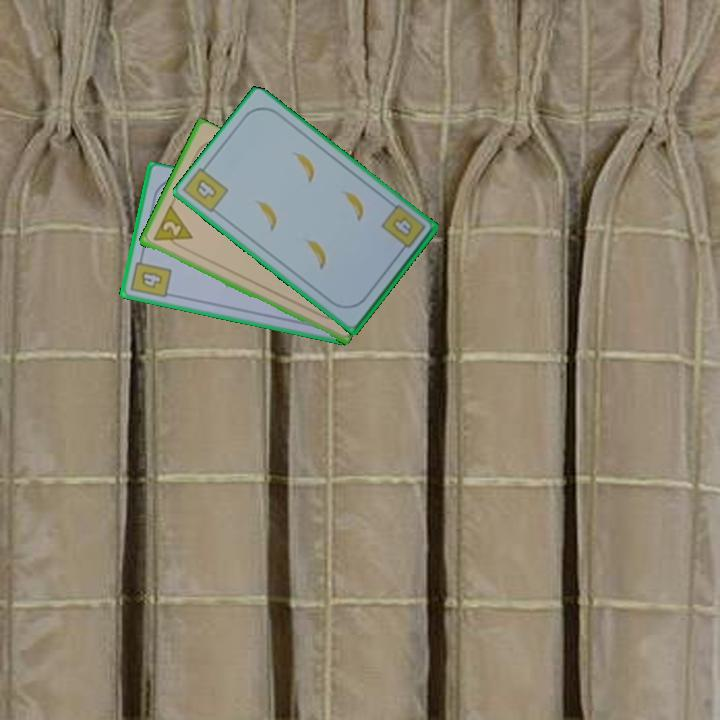2p: (149, 203, 195, 252)
4b: (378, 203, 428, 257), (127, 252, 174, 301), (191, 175, 220, 202)
